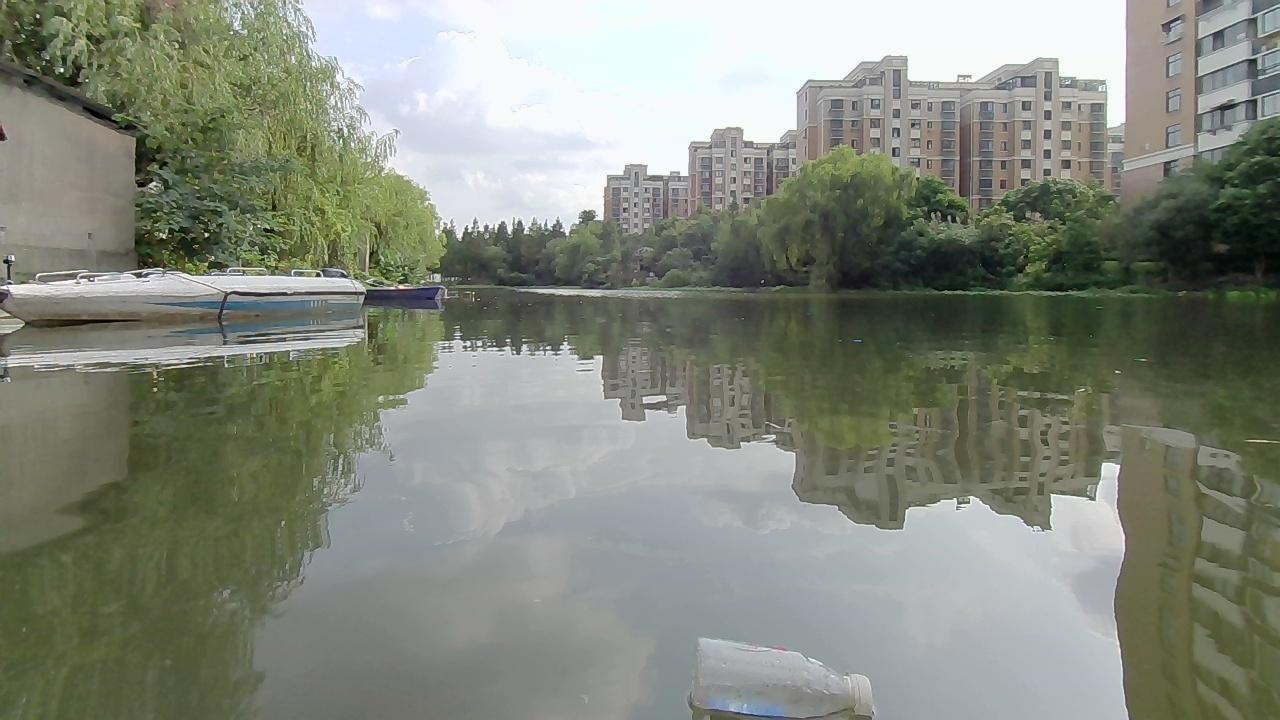bottle: (686, 631, 875, 717)
